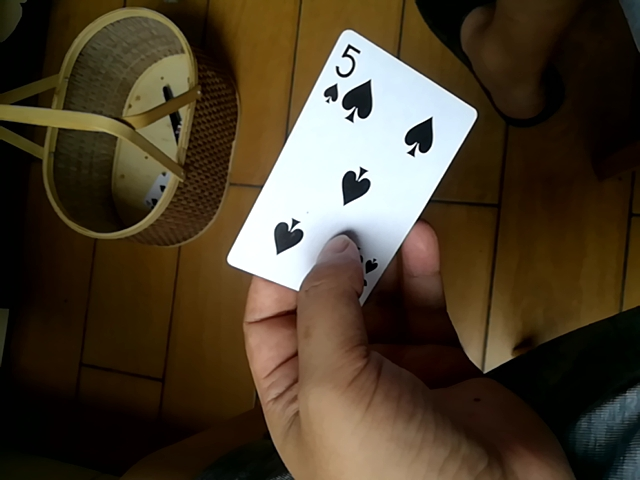ht 5: (228, 27, 472, 311)
